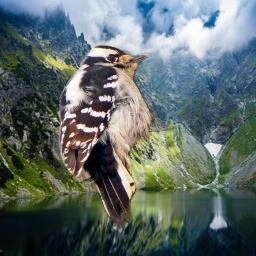Woodpecker: (53, 42, 177, 228)
